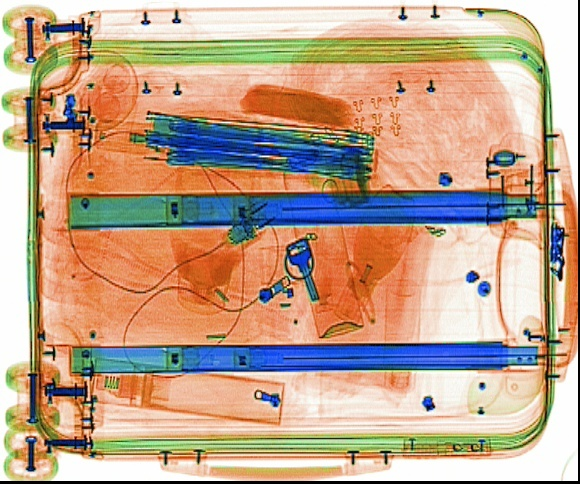pressure: (279, 135, 365, 338)
